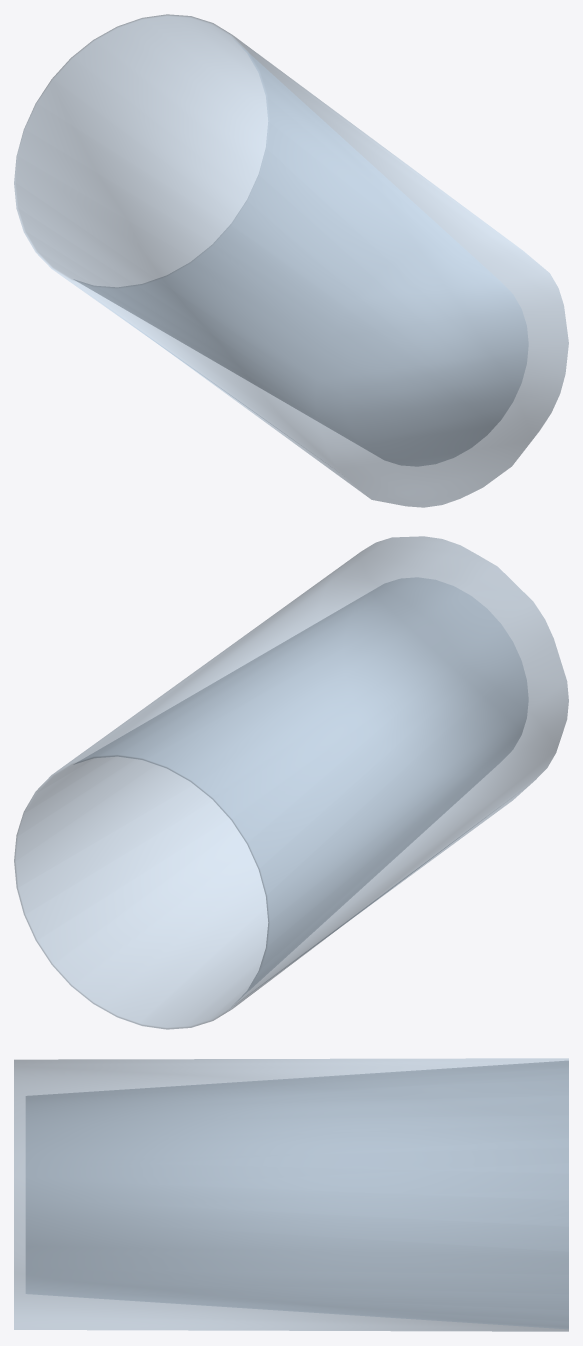
File: Glass.fbx
3 renders of one model, top to bottom at view 1: azimuth 30°, elevation 25°; view 2: azimuth 150°, elevation 25°; view 3: azimuth 270°, elevation 25°, orthographic. The views are drawn at different scales.
Visible parts, largest first — view 1: Cylinder; view 2: Cylinder; view 3: Cylinder.
Boxes of the visible parts, x1,y1,x2,y2 form: Cylinder: (14,14,568,507); Cylinder: (14,536,568,1029); Cylinder: (14,1058,568,1331).
Size of the model in its own units: 213 by 213 by 431.
